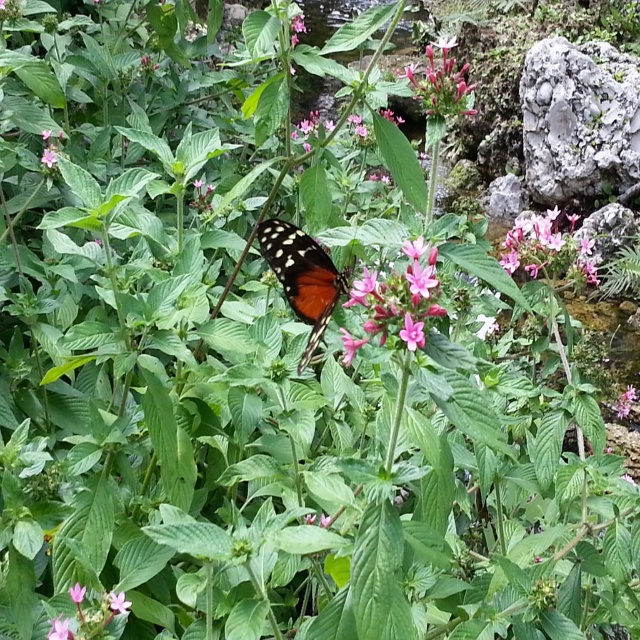Butterfly: (256, 214, 384, 370)
